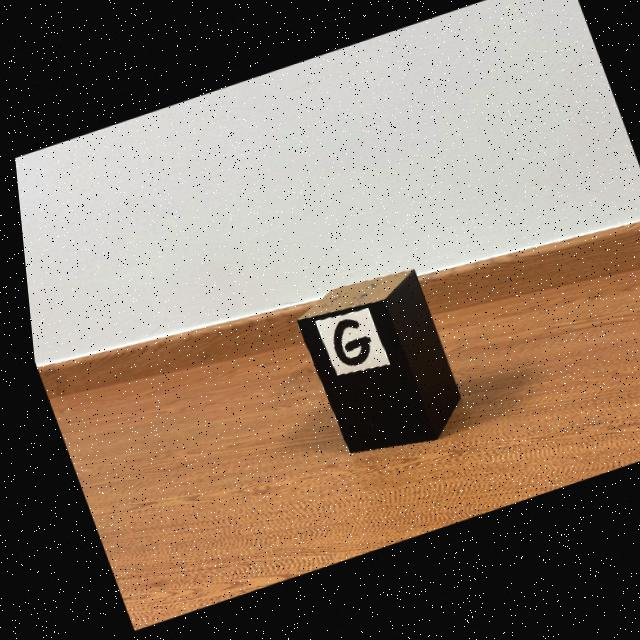G: (327, 322, 363, 369)
